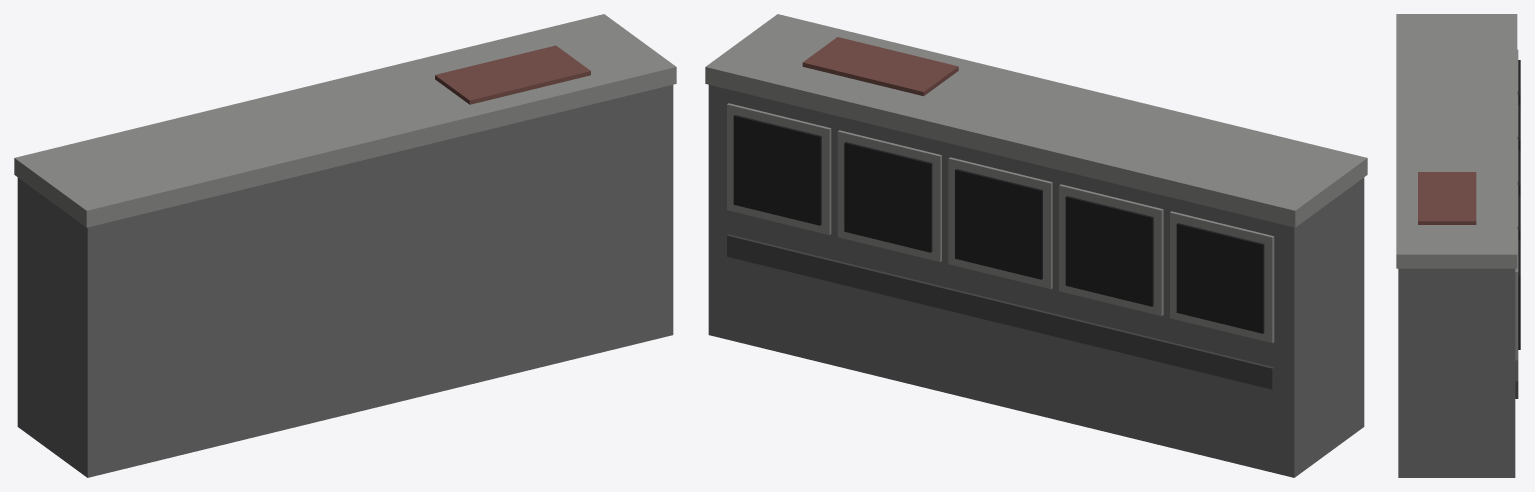
Rendered from oc_display_bank.obj.
The picture shows the model from 3 angles, left to right: view 1: azimuth 30°, elevation 25°; view 2: azimuth 150°, elevation 25°; view 3: azimuth 270°, elevation 25°; orthographic projection. The views are drawn at different scales.
Parts seen in each view (by area): view 1: oc_display_bank_0, oc_display_bank_1, oc_display_bank_13; view 2: oc_display_bank_0, oc_display_bank_1, oc_display_bank_12, oc_display_bank_5, oc_display_bank_11, oc_display_bank_9, oc_display_bank_3, oc_display_bank_7, oc_display_bank_13, oc_display_bank_4, oc_display_bank_10, oc_display_bank_2 (+2 smaller); view 3: oc_display_bank_1, oc_display_bank_0, oc_display_bank_13, oc_display_bank_10, oc_display_bank_11, oc_display_bank_12.
Boxes of the visible parts, <box> form: oc_display_bank_0: <box>17,85,673,477</box>; oc_display_bank_1: <box>14,14,676,227</box>; oc_display_bank_13: <box>435,45,590,104</box>; oc_display_bank_0: <box>708,85,1364,477</box>; oc_display_bank_1: <box>705,14,1367,227</box>; oc_display_bank_12: <box>727,234,1274,389</box>; oc_display_bank_5: <box>1065,196,1153,306</box>; oc_display_bank_11: <box>733,115,821,225</box>; oc_display_bank_9: <box>844,142,932,252</box>; oc_display_bank_3: <box>1176,223,1264,333</box>; oc_display_bank_7: <box>955,169,1042,279</box>; oc_display_bank_13: <box>802,37,958,96</box>; oc_display_bank_4: <box>1059,184,1163,316</box>; oc_display_bank_10: <box>727,103,831,234</box>; oc_display_bank_2: <box>1170,211,1274,343</box>; oc_display_bank_1: <box>1396,14,1517,268</box>; oc_display_bank_0: <box>1398,268,1515,477</box>; oc_display_bank_13: <box>1418,172,1476,224</box>; oc_display_bank_10: <box>1515,230,1518,360</box>; oc_display_bank_11: <box>1518,240,1520,349</box>; oc_display_bank_12: <box>1515,360,1518,398</box>.
Size of the model in its own units: 2.92 by 1.29 by 0.637.
